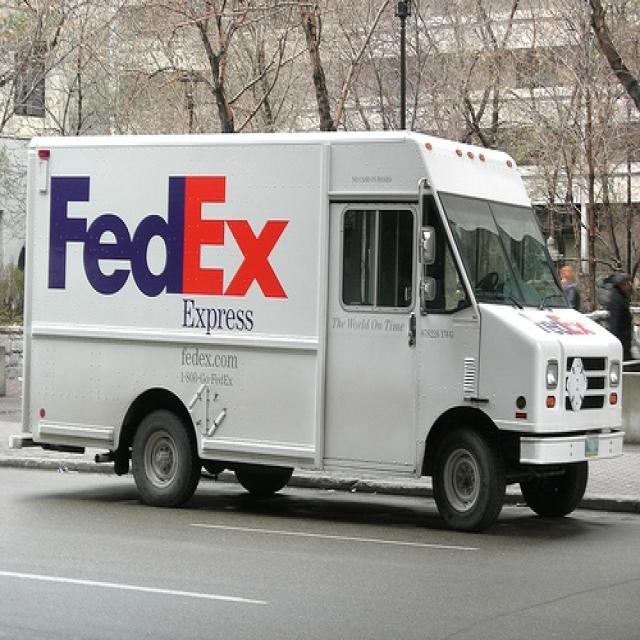fedex: (48, 173, 297, 303)
